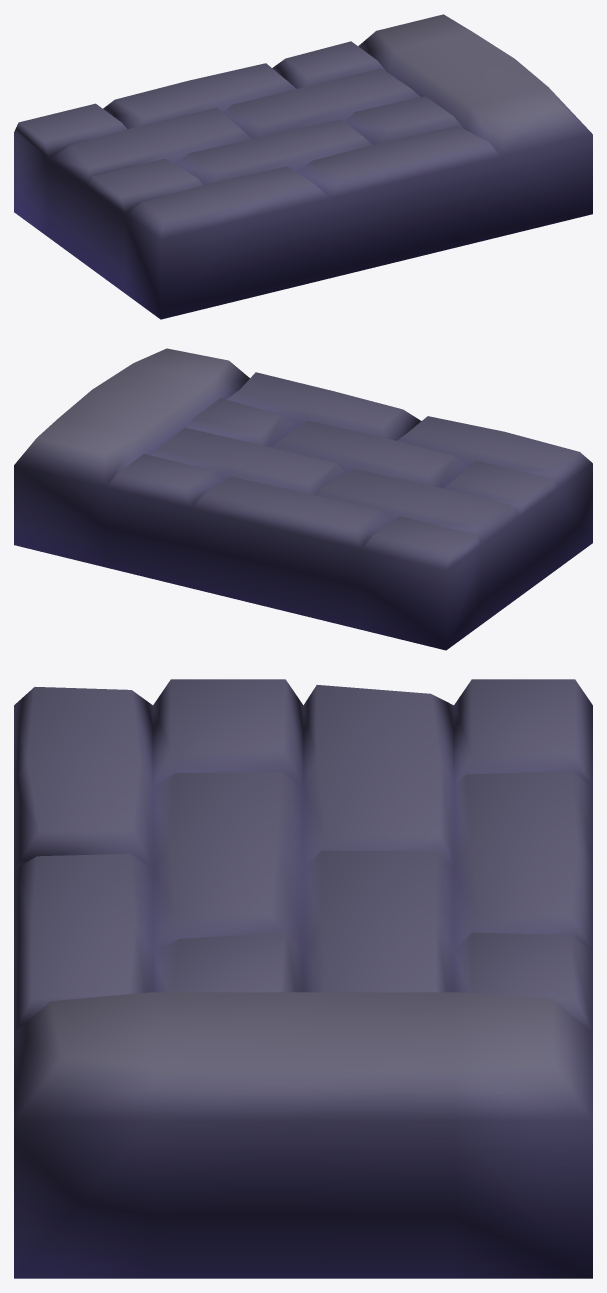
The model's file is floorLining1.fbx.
3 views of the same model, one above another, from view 1: azimuth 30°, elevation 25°; view 2: azimuth 150°, elevation 25°; view 3: azimuth 270°, elevation 25° (orthographic). The views are drawn at different scales.
Visible parts, largest first — view 1: floorLining1; view 2: floorLining1; view 3: floorLining1.
Part boxes in pixels (x1,y1,x2,y2): floorLining1: (14, 14, 592, 319); floorLining1: (14, 348, 592, 650); floorLining1: (14, 679, 592, 1278).
Bounding box in the file's own units: 17 × 3.87 × 10.
